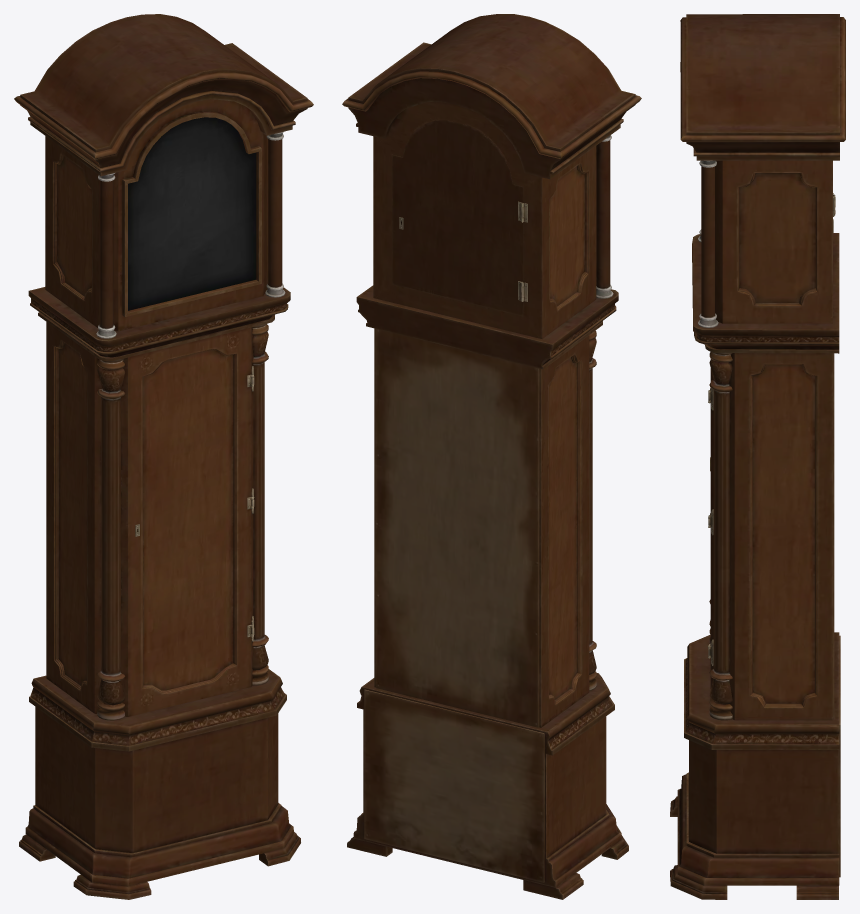
Rendered from clock.glb.
The picture shows the model from 3 angles, left to right: view 1: azimuth 30°, elevation 25°; view 2: azimuth 150°, elevation 25°; view 3: azimuth 270°, elevation 25°; orthographic projection. The views are drawn at different scales.
Parts seen in each view (by area): view 1: vintage_grandfather_clock_01_Body; view 2: vintage_grandfather_clock_01_Body; view 3: vintage_grandfather_clock_01_Body.
Boxes of the visible parts, box(x1,y1,x2,y2) form: vintage_grandfather_clock_01_Body: box(14, 14, 313, 899); vintage_grandfather_clock_01_Body: box(342, 14, 641, 899); vintage_grandfather_clock_01_Body: box(670, 14, 845, 899).
Bounding box in the file's own units: 0.6255 × 2.19 × 0.4265.
2 materials, 2 textured.
